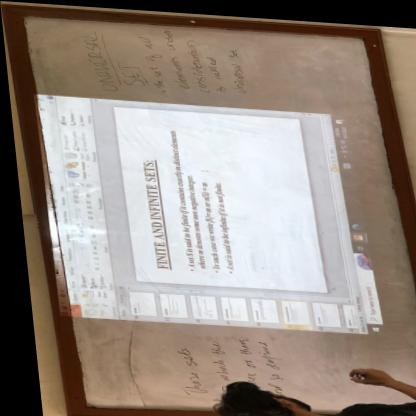Handwritten text: (153, 330, 209, 408), (72, 22, 118, 98), (153, 21, 195, 98), (129, 24, 168, 92), (219, 36, 256, 99), (179, 28, 209, 93), (195, 329, 227, 385), (222, 326, 256, 374), (250, 332, 280, 384), (201, 44, 230, 97), (110, 50, 146, 92)
Lecturer: (196, 349, 416, 416)
Whiteboard: (19, 11, 416, 416)
